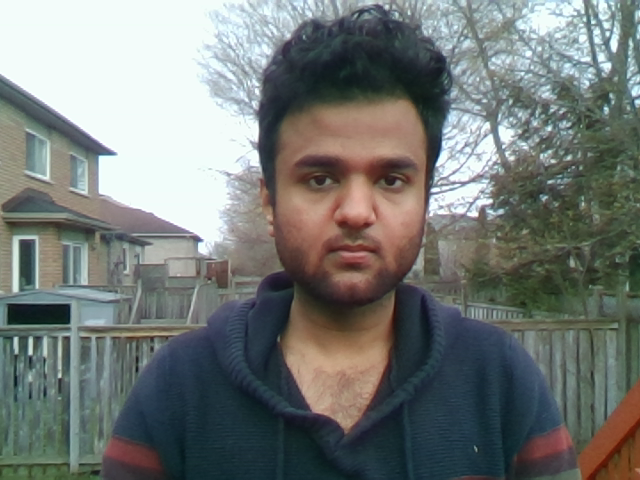Without Mask: (260, 186, 445, 311)
